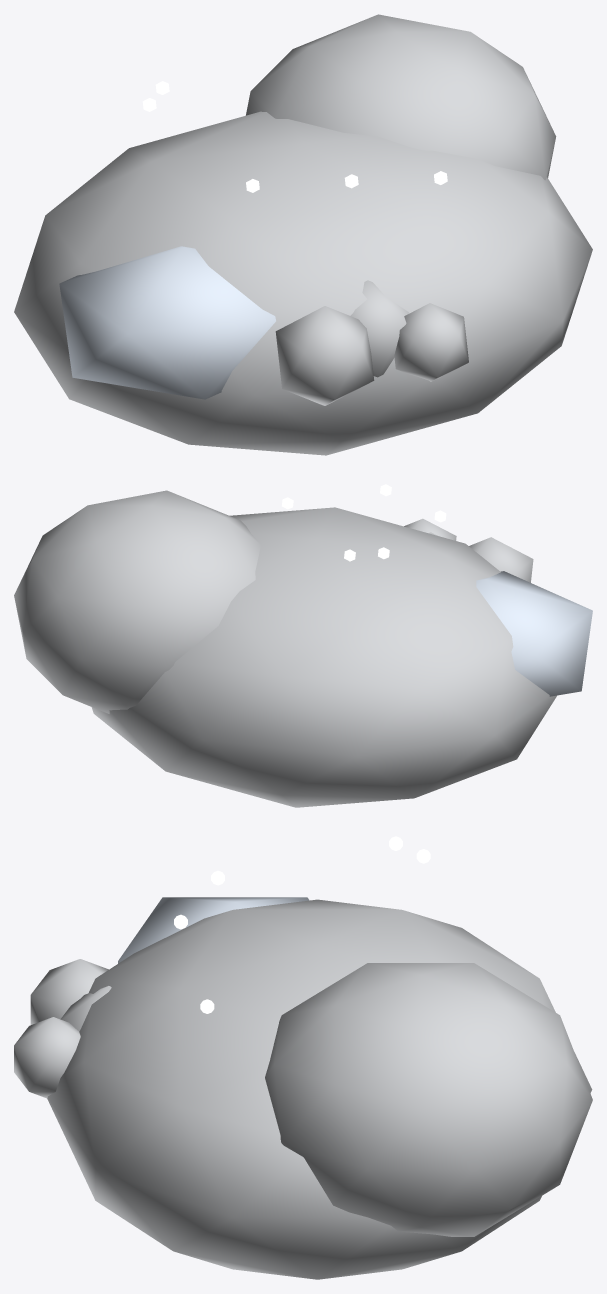
Rendered from snowdrift.glb.
3 views of the same model, one above another, from view 1: azimuth 30°, elevation 25°; view 2: azimuth 150°, elevation 25°; view 3: azimuth 270°, elevation 25° (orthographic). The views are drawn at different scales.
Visible parts, largest first — view 1: snowdrift; view 2: snowdrift; view 3: snowdrift.
Boxes of the visible parts, x1,y1,x2,y2 form: snowdrift: [14, 14, 592, 455]; snowdrift: [14, 484, 592, 807]; snowdrift: [14, 836, 592, 1279].
Size of the model in its own units: 0.9645 by 0.5427 by 0.8411.
